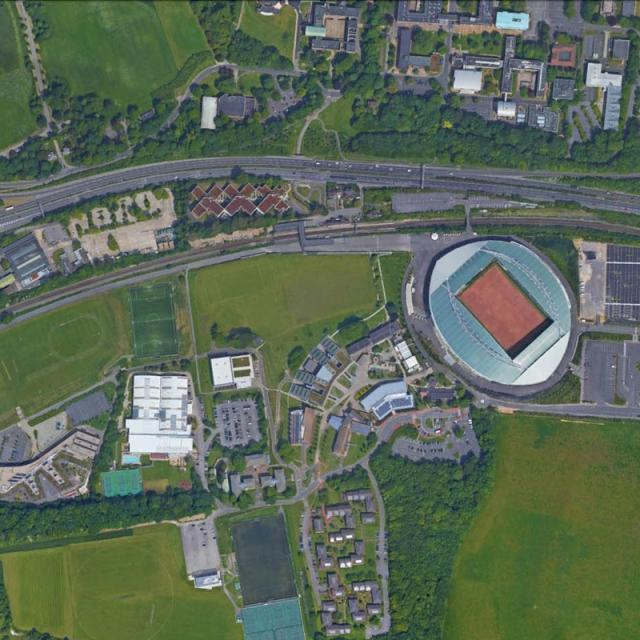vehicle: (5, 206, 14, 211)
